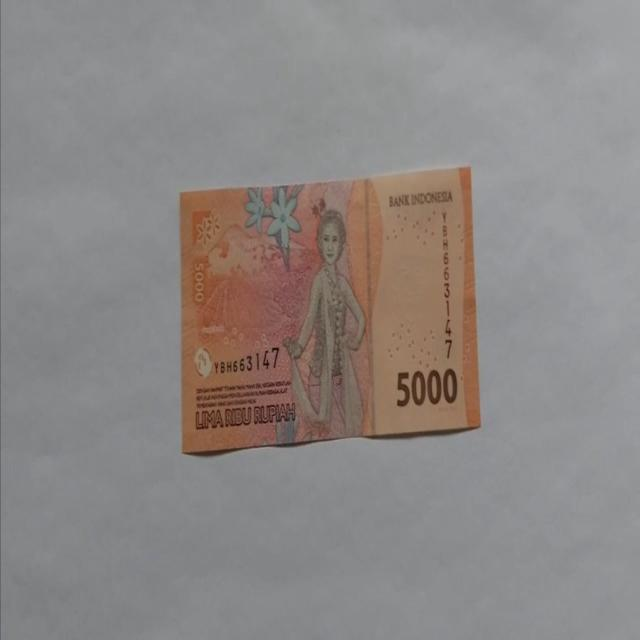lima ribu rupiah: (179, 164, 481, 454), (281, 208, 367, 441)
